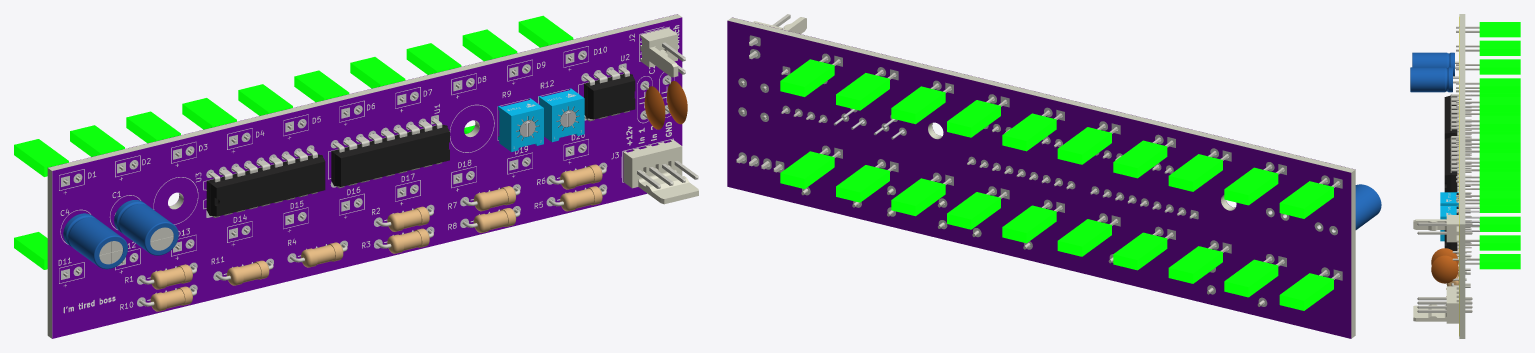
The model's file is vu-meter-PCB.glb.
3 renders of one model, left to right at view 1: azimuth 30°, elevation 25°; view 2: azimuth 150°, elevation 25°; view 3: azimuth 270°, elevation 25°, orthographic. The views are drawn at different scales.
Visible parts, largest first — view 1: Vumeter_soldermask.step-1, DIP-18_W7.62mm.step-2/DIP-18_W7.62mm-3.step-1, Vumeter_silkscreen.step-1, DIP-18_W7.62mm.step-1/DIP-18_W7.62mm-3.step-1, Vumeter_pad.step-1, Vumeter_PCB.step-1, Molex_KK-254_AE-6410-04A_1x04_P2.54mm_Vertical_1.step-1/Mole, C_Radial_D6.3mm_H11.0mm_P2.50mm.step-1/C_Radial_D63mm_H110mm, C_Radial_D6.3mm_H11.0mm_P2.50mm.step-2/C_Radial_D63mm_H110mm, DIP-8_W7.62mm_1.step-1/DIP-8_W7.62mm-1.step-1, T73YB-VISHAY.step-1/T73YB-VISHAY-2.step-1, T73YB-VISHAY.step-2/T73YB-VISHAY-2.step-1 (+24 smaller); view 2: Vumeter_soldermask-4.step-1, Vumeter_pad.step-1, Vumeter_PCB.step-1, LED_Rectangular_W5.0mm_H2.0mm.step-19/LED_Rectangular_W5.0mm, LED_Rectangular_W5.0mm_H2.0mm.step-18/LED_Rectangular_W5.0mm, LED_Rectangular_W5.0mm_H2.0mm.step-6/LED_Rectangular_W5.0mm_, LED_Rectangular_W5.0mm_H2.0mm.step-20/LED_Rectangular_W5.0mm, LED_Rectangular_W5.0mm_H2.0mm.step-9/LED_Rectangular_W5.0mm_, LED_Rectangular_W5.0mm_H2.0mm.step-5/LED_Rectangular_W5.0mm_, LED_Rectangular_W5.0mm_H2.0mm.step-3/LED_Rectangular_W5.0mm_, LED_Rectangular_W5.0mm_H2.0mm.step-16/LED_Rectangular_W5.0mm, LED_Rectangular_W5.0mm_H2.0mm.step-1/LED_Rectangular_W5.0mm_ (+13 smaller); view 3: Vumeter_PCB.step-1, Molex_KK-254_AE-6410-04A_1x04_P2.54mm_Vertical_1.step-1/Mole, C_Radial_D6.3mm_H11.0mm_P2.50mm.step-2/C_Radial_D63mm_H110mm, DIP-18_W7.62mm.step-1/DIP-18_W7.62mm-3.step-1, Molex_KK-254_AE-6410-02A_1x02_P2.54mm_Vertical_1.step-1/Mole, DIP-18_W7.62mm.step-2/DIP-18_W7.62mm-3.step-1, LED_Rectangular_W5.0mm_H2.0mm.step-8/LED_Rectangular_W5.0mm_, LED_Rectangular_W5.0mm_H2.0mm.step-6/LED_Rectangular_W5.0mm_, LED_Rectangular_W5.0mm_H2.0mm.step-4/LED_Rectangular_W5.0mm_, LED_Rectangular_W5.0mm_H2.0mm.step-14/LED_Rectangular_W5.0mm, LED_Rectangular_W5.0mm_H2.0mm.step-16/LED_Rectangular_W5.0mm, LED_Rectangular_W5.0mm_H2.0mm.step-13/LED_Rectangular_W5.0mm (+22 smaller).
Part boxes in pixels (bbox=[...]): Vumeter_soldermask.step-1: bbox=[52, 17, 682, 338]; DIP-18_W7.62mm.step-2/DIP-18_W7.62mm-3.step-1: bbox=[206, 147, 325, 217]; Vumeter_silkscreen.step-1: bbox=[58, 25, 679, 313]; DIP-18_W7.62mm.step-1/DIP-18_W7.62mm-3.step-1: bbox=[331, 118, 449, 188]; Vumeter_pad.step-1: bbox=[61, 50, 671, 306]; Vumeter_PCB.step-1: bbox=[47, 14, 681, 338]; Molex_KK-254_AE-6410-04A_1x04_P2.54mm_Vertical_1.step-1/Mole: bbox=[623, 139, 698, 204]; C_Radial_D6.3mm_H11.0mm_P2.50mm.step-1/C_Radial_D63mm_H110mm: bbox=[63, 213, 127, 269]; C_Radial_D6.3mm_H11.0mm_P2.50mm.step-2/C_Radial_D63mm_H110mm: bbox=[114, 200, 178, 255]; DIP-8_W7.62mm_1.step-1/DIP-8_W7.62mm-1.step-1: bbox=[583, 66, 635, 121]; T73YB-VISHAY.step-1/T73YB-VISHAY-2.step-1: bbox=[498, 98, 543, 151]; T73YB-VISHAY.step-2/T73YB-VISHAY-2.step-1: bbox=[538, 88, 584, 142]; Vumeter_soldermask-4.step-1: bbox=[727, 20, 1351, 338]; Vumeter_pad.step-1: bbox=[738, 35, 1342, 306]; Vumeter_PCB.step-1: bbox=[728, 17, 1355, 338]; LED_Rectangular_W5.0mm_H2.0mm.step-19/LED_Rectangular_W5.0mm: bbox=[1113, 137, 1173, 178]; LED_Rectangular_W5.0mm_H2.0mm.step-18/LED_Rectangular_W5.0mm: bbox=[780, 56, 840, 96]; LED_Rectangular_W5.0mm_H2.0mm.step-6/LED_Rectangular_W5.0mm_: bbox=[1279, 178, 1340, 218]; LED_Rectangular_W5.0mm_H2.0mm.step-20/LED_Rectangular_W5.0mm: bbox=[1113, 229, 1173, 270]; LED_Rectangular_W5.0mm_H2.0mm.step-9/LED_Rectangular_W5.0mm_: bbox=[1224, 256, 1284, 297]; LED_Rectangular_W5.0mm_H2.0mm.step-5/LED_Rectangular_W5.0mm_: bbox=[1279, 270, 1340, 310]; LED_Rectangular_W5.0mm_H2.0mm.step-3/LED_Rectangular_W5.0mm_: bbox=[780, 148, 840, 188]; LED_Rectangular_W5.0mm_H2.0mm.step-16/LED_Rectangular_W5.0mm: bbox=[1224, 164, 1284, 205]; LED_Rectangular_W5.0mm_H2.0mm.step-1/LED_Rectangular_W5.0mm_: bbox=[1168, 243, 1229, 283]; Vumeter_PCB.step-1: bbox=[1459, 14, 1465, 338]; Molex_KK-254_AE-6410-04A_1x04_P2.54mm_Vertical_1.step-1/Mole: bbox=[1413, 286, 1472, 323]; C_Radial_D6.3mm_H11.0mm_P2.50mm.step-2/C_Radial_D63mm_H110mm: bbox=[1410, 67, 1458, 92]; DIP-18_W7.62mm.step-1/DIP-18_W7.62mm-3.step-1: bbox=[1444, 136, 1471, 197]; Molex_KK-254_AE-6410-02A_1x02_P2.54mm_Vertical_1.step-1/Mole: bbox=[1413, 215, 1472, 242]; DIP-18_W7.62mm.step-2/DIP-18_W7.62mm-3.step-1: bbox=[1444, 94, 1471, 156]; LED_Rectangular_W5.0mm_H2.0mm.step-8/LED_Rectangular_W5.0mm_: bbox=[1456, 171, 1520, 186]; LED_Rectangular_W5.0mm_H2.0mm.step-6/LED_Rectangular_W5.0mm_: bbox=[1456, 22, 1520, 37]; LED_Rectangular_W5.0mm_H2.0mm.step-4/LED_Rectangular_W5.0mm_: bbox=[1456, 115, 1520, 130]; LED_Rectangular_W5.0mm_H2.0mm.step-14/LED_Rectangular_W5.0mm: bbox=[1456, 153, 1520, 168]; LED_Rectangular_W5.0mm_H2.0mm.step-16/LED_Rectangular_W5.0mm: bbox=[1456, 40, 1520, 55]; LED_Rectangular_W5.0mm_H2.0mm.step-13/LED_Rectangular_W5.0mm: bbox=[1456, 97, 1520, 112].
Bounding box in the file's own units: 0.1277 × 0.0325 × 0.0284.
